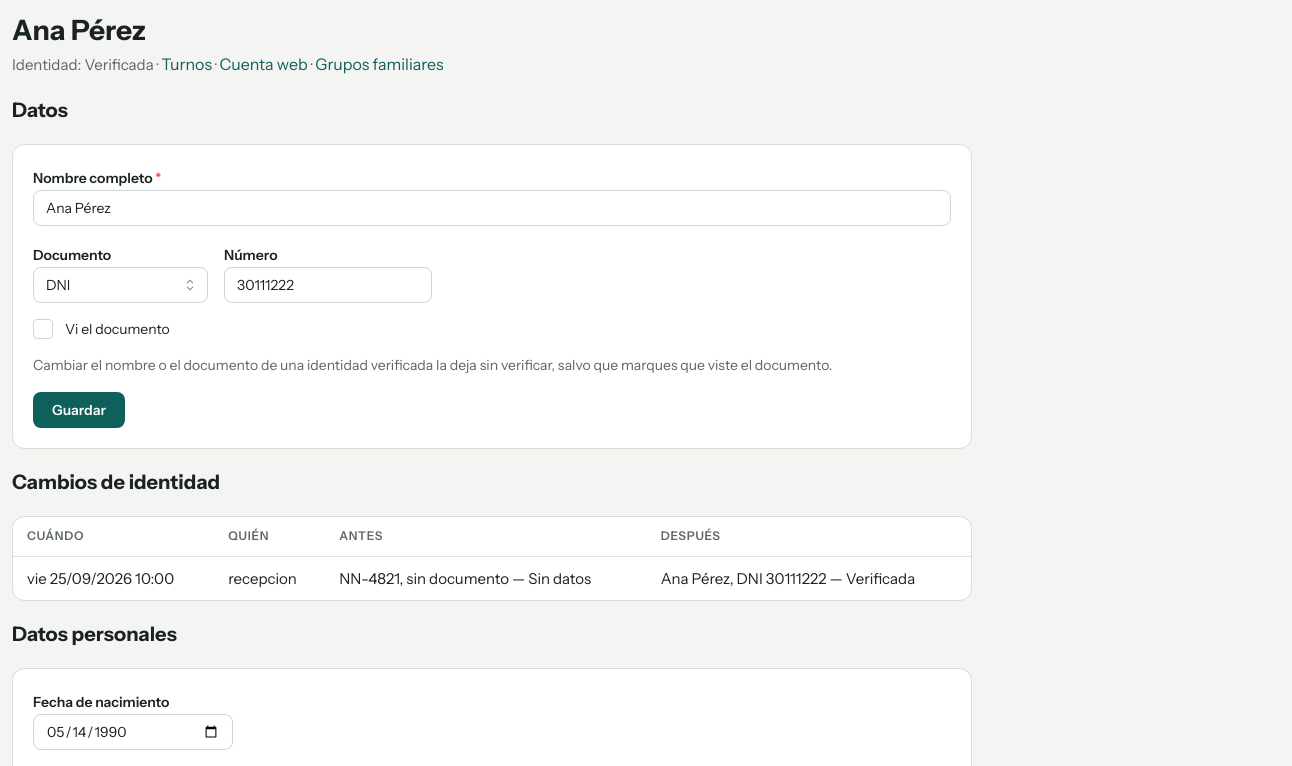
Test case: a patient's screen › shows the identity, its history, and changes it with the document seen
Check: the heading "Ana Pérez" is shown, box x1=12 y1=13 x2=146 y2=47
Check: the text "Identidad: Verificada" is shown, box x1=12 y1=54 x2=444 y2=74
Step 1. Replace the text in the field labelled "Nombre completo *" with "Ana María Pérez" → (492, 208), box x1=33 y1=190 x2=951 y2=226
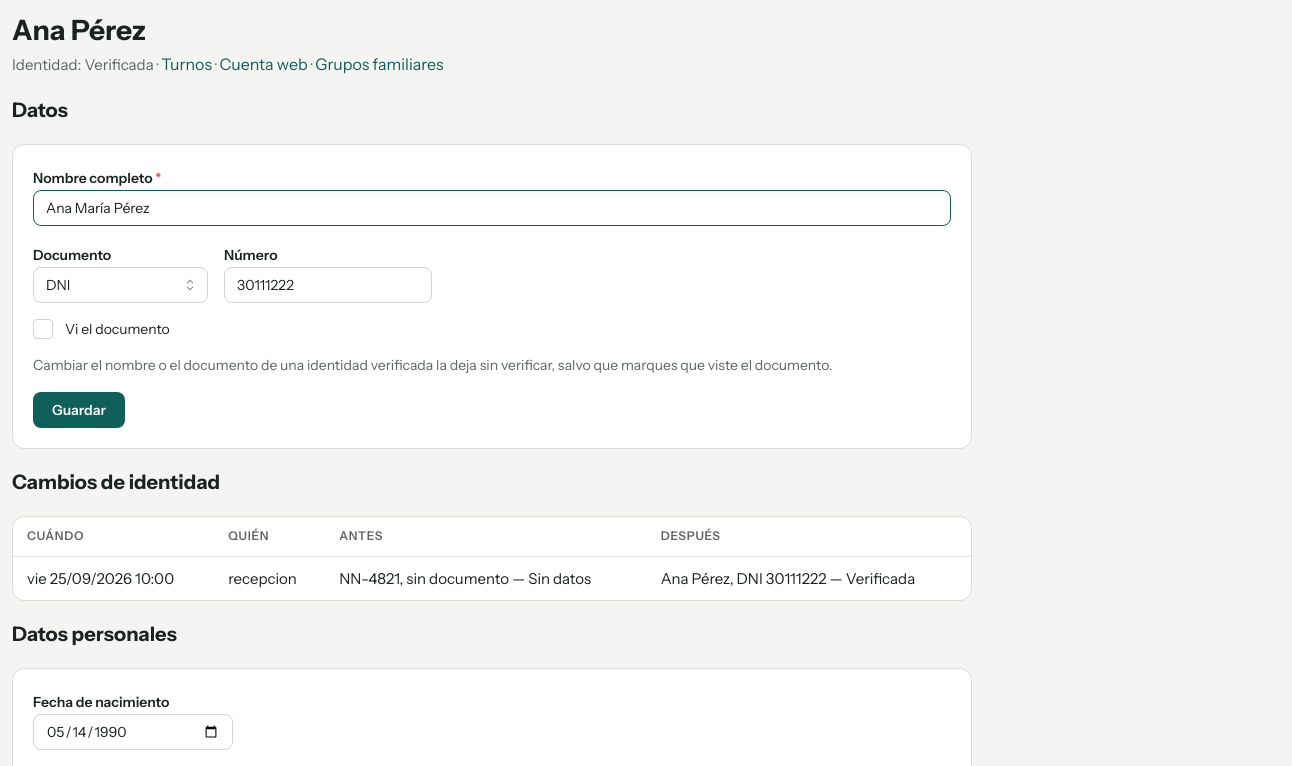
Step 2. Click the checkbox labelled "Vi el documento" → click(43, 329), box x1=33 y1=319 x2=53 y2=339
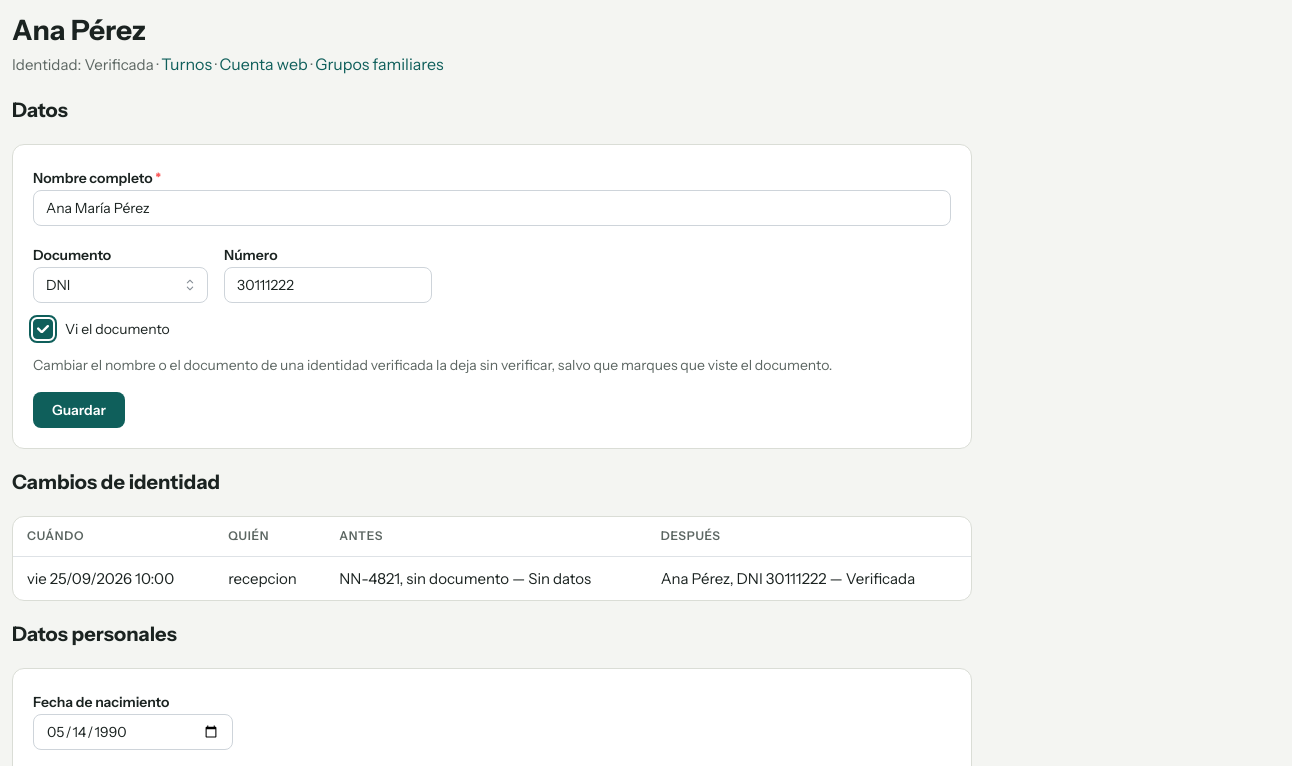
Step 3. Click the button "Guardar" → click(79, 410), box x1=33 y1=392 x2=125 y2=428
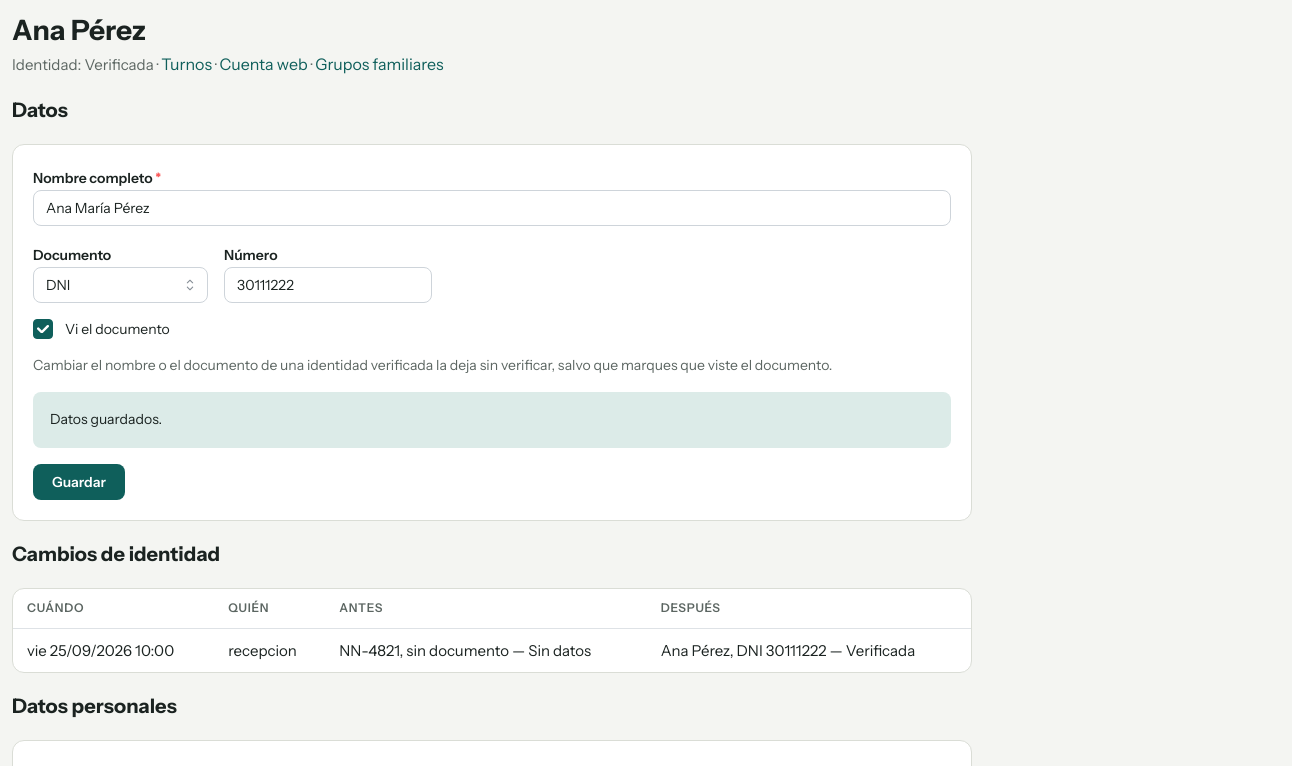
Check: the text "Datos guardados." is shown, box x1=50 y1=410 x2=162 y2=428
